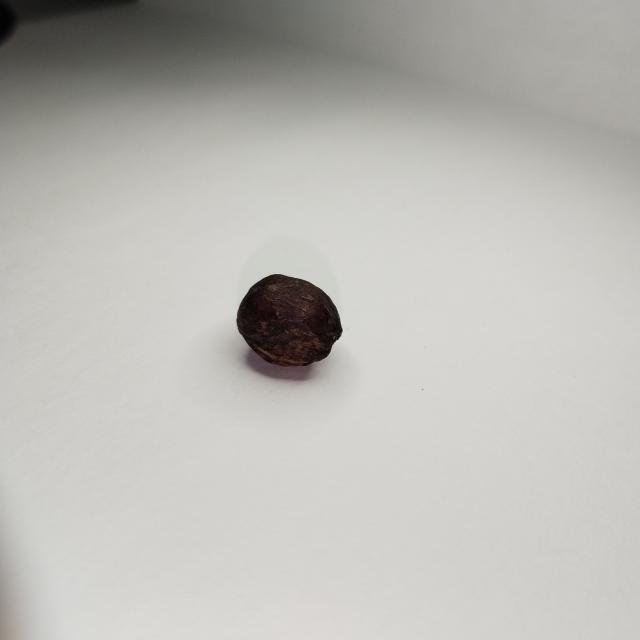Danado: (237, 274, 342, 369)
